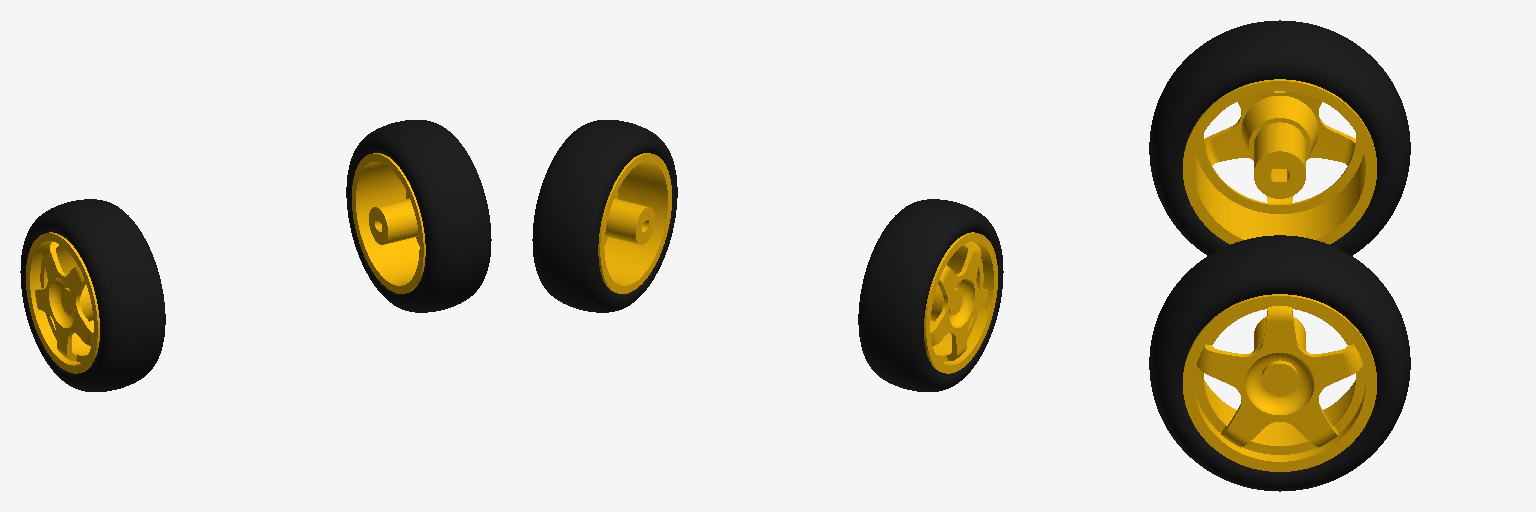
The robot description file, URDF, robot "turtle_pi":
<?xml version="1.0"?>
<robot name="turtle_pi">
  <link name="base_link">
    <visual>
      <geometry>
        <mesh filename="package://turtle_pi_description/urdf/meshes/turtle_pi_chassis.dae"/>
      </geometry>
    </visual>
    <inertial>
      <mass value="1"/>
      <inertia ixx="0.0049669" ixy="0.0" ixz="0.0" iyy="0.0016556" iyz="0.0" izz="0.0049669"/>
    </inertial>
    <collision>
      <origin xyz="0 0 0" rpy="0 0 0"/>
      <geometry>
        <mesh filename="package://turtle_pi_description/urdf/meshes/turtle_pi_chassis_collision.stl"/>
        <box size="0.22 0.10 0.05"/>
      </geometry>
    </collision>
  </link>

  <gazebo reference="base_link">
    <mu1 value="0.1"/>
    <mu2 value="0.1"/>
    <kp value="10000000.0" />
    <kd value="1.0" />
    <material>Gazebo/Black</material>
  </gazebo>

  <link name="left_wheel">
    <visual>
      <origin xyz="0 0 0" rpy="0 0 0"/>
      <geometry>
        <mesh filename="package://turtle_pi_description/urdf/meshes/turtle_pi_wheel.dae"/>
      </geometry>
    </visual>
    <inertial>
      <mass value="0.1"/>
      <inertia ixx="0.001" ixy="0.0" ixz="0.0" iyy="0.001" iyz="0.0" izz="0.001"/>
    </inertial>
    <collision>
      <origin xyz="-0.0175 0 0" rpy="0 1.57079632679 0"/>
      <geometry>
        <cylinder length="0.025" radius="0.035"/>
      </geometry>
    </collision>
  </link>
  
  <link name="right_wheel">
    <visual>
      <origin rpy="0 3.1415 0" xyz="0 0 0"/>
      <geometry>
        <mesh filename="package://turtle_pi_description/urdf/meshes/turtle_pi_wheel.dae"/>
      </geometry>
    </visual>
    <inertial>
      <mass value="0.1"/>
      <inertia ixx="0.001" ixy="0.0" ixz="0.0" iyy="0.001" iyz="0.0" izz="0.001"/>
    </inertial>
    <collision>
      <origin xyz="0.0175 0 0" rpy="0 -1.57079632679 0"/>
      <geometry>
        <cylinder length="0.025" radius="0.035"/>
      </geometry>
    </collision>
    
  </link>
  
  <joint name="left_wheel_joint" type="continuous">
    <axis xyz="-1 0 0"/>
    <origin rpy="0 0 0" xyz="-0.050850 0.085775 -0.011100"/>
    <parent link="base_link"/>
    <child link="left_wheel"/>
  </joint>

  <transmission name="left_wheel_trans">
    <type>transmission_interface/SimpleTransmission</type>
    <actuator name="left_wheel_motor">
      <mechanicalReduction>1</mechanicalReduction>
    </actuator>
    <joint name="left_wheel_joint">
      <hardwareInterface>hardware_interface/VelocityJointInterface</hardwareInterface>
    </joint>
  </transmission>

  <joint name="right_wheel_joint" type="continuous">
    <axis xyz="-1 0 0"/>
    <origin rpy="0 0 0" xyz="0.050850 0.085775 -0.011100"/>
    <parent link="base_link"/>
    <child link="right_wheel"/>
  </joint>

  <transmission name="right_wheel_trans">
    <type>transmission_interface/SimpleTransmission</type>
    <actuator name="right_wheel_motor">
      <mechanicalReduction>1</mechanicalReduction>
    </actuator>
    <joint name="right_wheel_joint">
      <hardwareInterface>hardware_interface/VelocityJointInterface</hardwareInterface>
    </joint>
  </transmission>

  <gazebo reference="left_wheel">
    <mu1 value="200.0"/>
    <mu2 value="100.0"/>
    <kp value="10000000.0" />
    <kd value="1.0" />
    <material>Gazebo/Black</material>
  </gazebo>

  <gazebo reference="right_wheel">
    <mu1 value="200.0"/>
    <mu2 value="100.0"/>
    <kp value="10000000.0" />
    <kd value="1.0" />
    <material>Gazebo/Black</material>
  </gazebo>

  <gazebo>
    <plugin name="gazebo_ros_control" filename="libgazebo_ros_control.so">
      <robotNamespace>/</robotNamespace>
    </plugin>
  </gazebo>
</robot>

--- What the picture shows (computed from the rendered views, not written in the file) ---
The picture shows the robot from 3 angles, left to right: view 1: azimuth 30°, elevation 25°; view 2: azimuth 150°, elevation 25°; view 3: azimuth 270°, elevation 25°; orthographic projection.
Robot: turtle_pi — 3 links, 2 joints (2 continuous); root link base_link; default pose: all joints at 0.
Visible links, largest first — view 1: left_wheel, right_wheel; view 2: left_wheel, right_wheel; view 3: right_wheel, left_wheel.
Boxes of the visible links, <box> form: left_wheel: <box>20,199,165,391</box>; right_wheel: <box>346,120,491,312</box>; left_wheel: <box>858,199,1003,391</box>; right_wheel: <box>532,120,677,312</box>; right_wheel: <box>1149,235,1410,491</box>; left_wheel: <box>1149,20,1410,255</box>.
Size in the robot's own frame: 0.1612 by 0.0695 by 0.0695 metres.
Meshes: 2 distinct files referenced, 2 mesh visuals loaded (1 Collada DAE); not drawn: 1 (reference not matched to a file when rendering).
